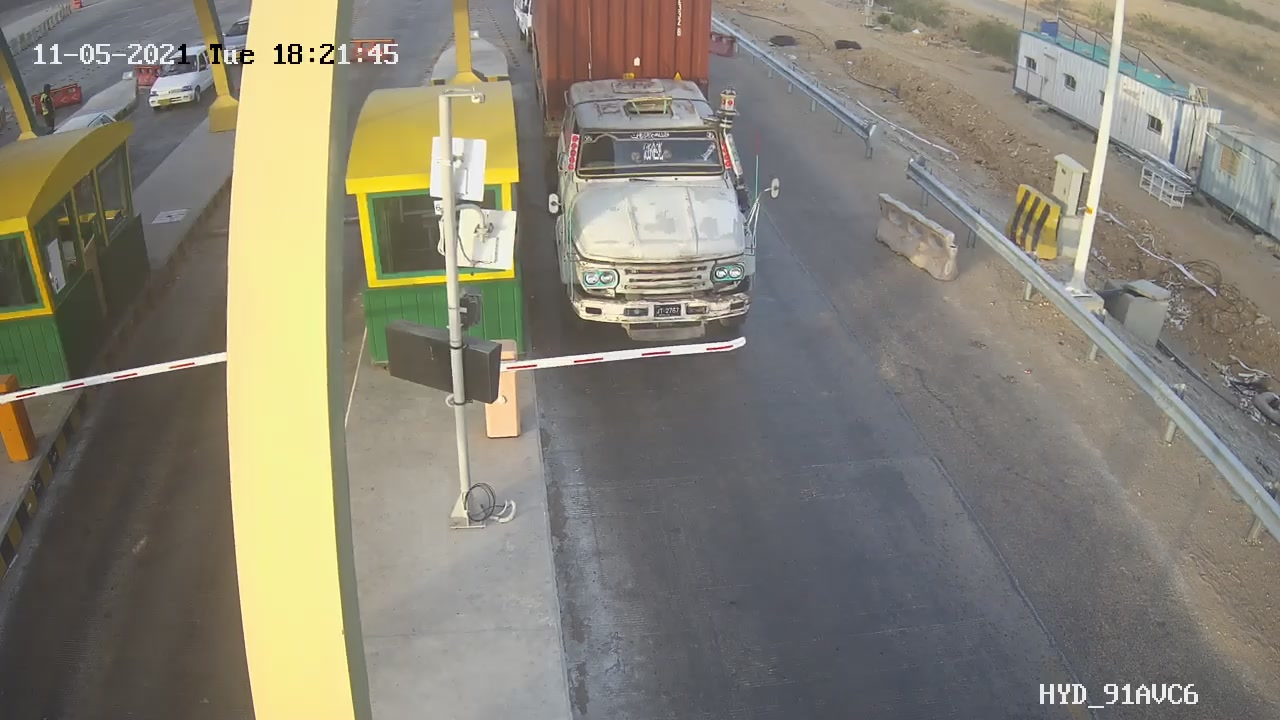F6: (517, 8, 786, 352)
